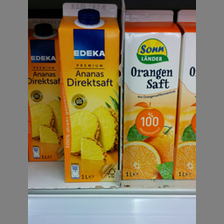juice: (58, 1, 119, 184), (122, 8, 182, 180), (29, 18, 61, 162)
